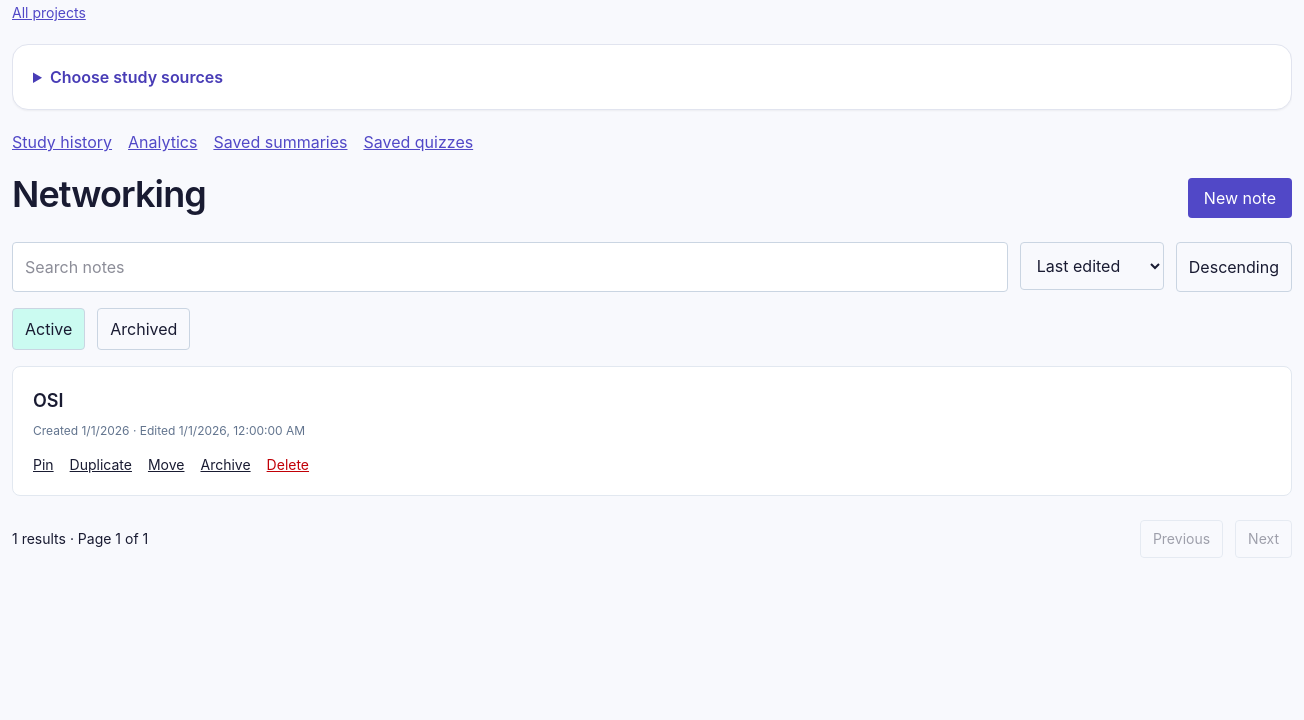
Test: updates note lists and project counts after pin, duplicate, archive, restore and move
This screenshot has width=1304, height=720.
Later steps or results of the test are not shown.
Expected: the heading "OSI" is shown, [33, 390, 64, 411]
Click the button "Pin" at (43, 465), box [33, 455, 54, 475]
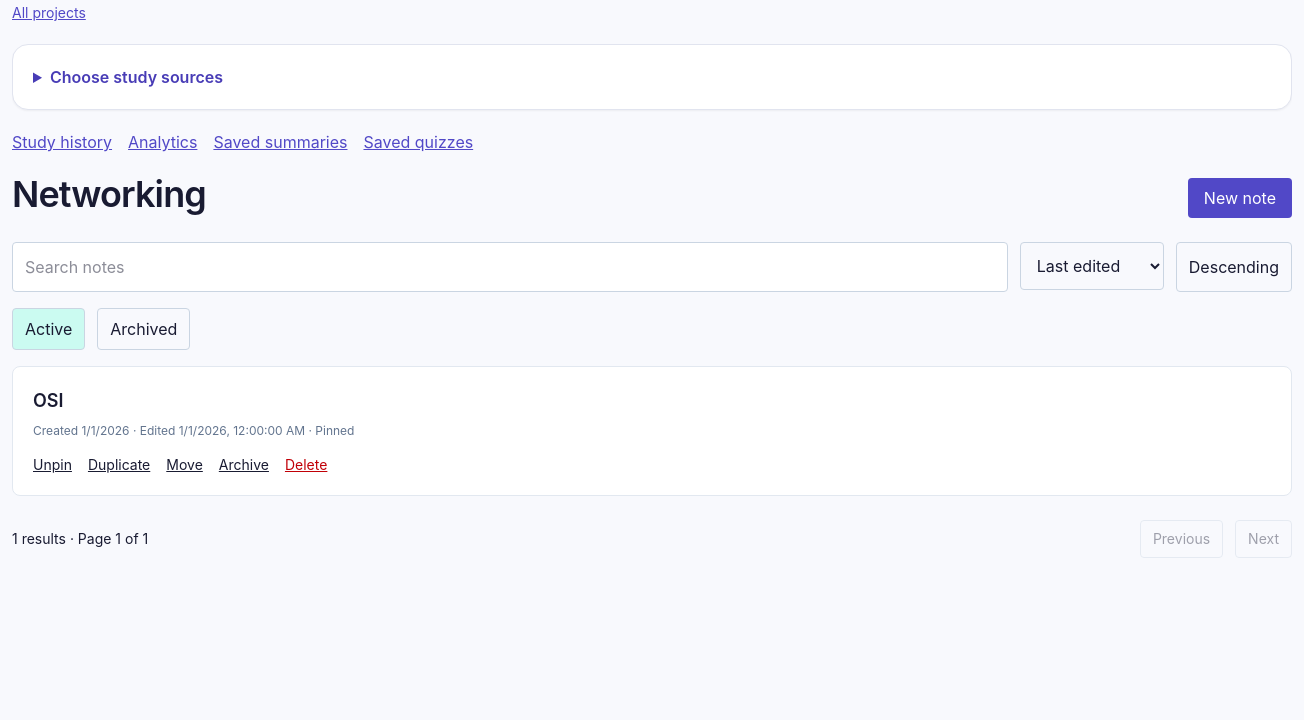
Expected: the button "Unpin" is shown, [33, 455, 72, 475]
Click the button "Duplicate" at (119, 465), box [88, 455, 150, 475]
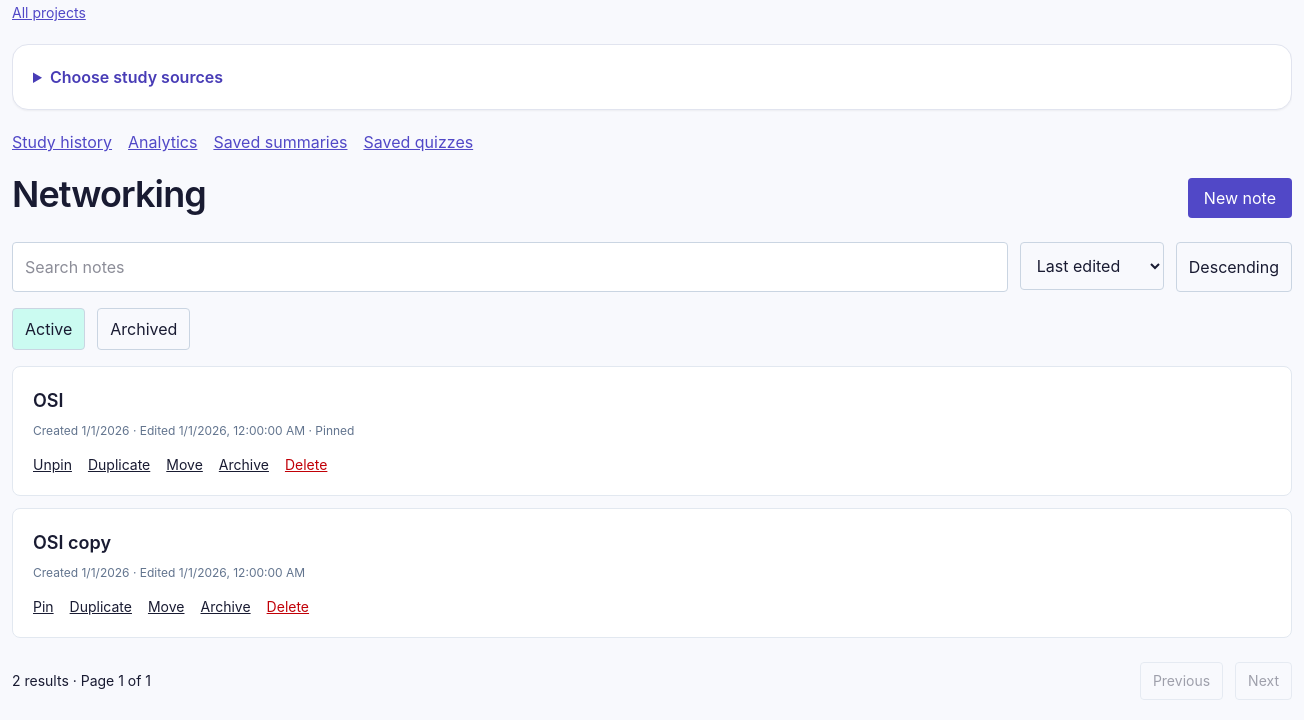
Click the button "Archive" below "OSI copy" at (226, 607), box [200, 597, 251, 617]
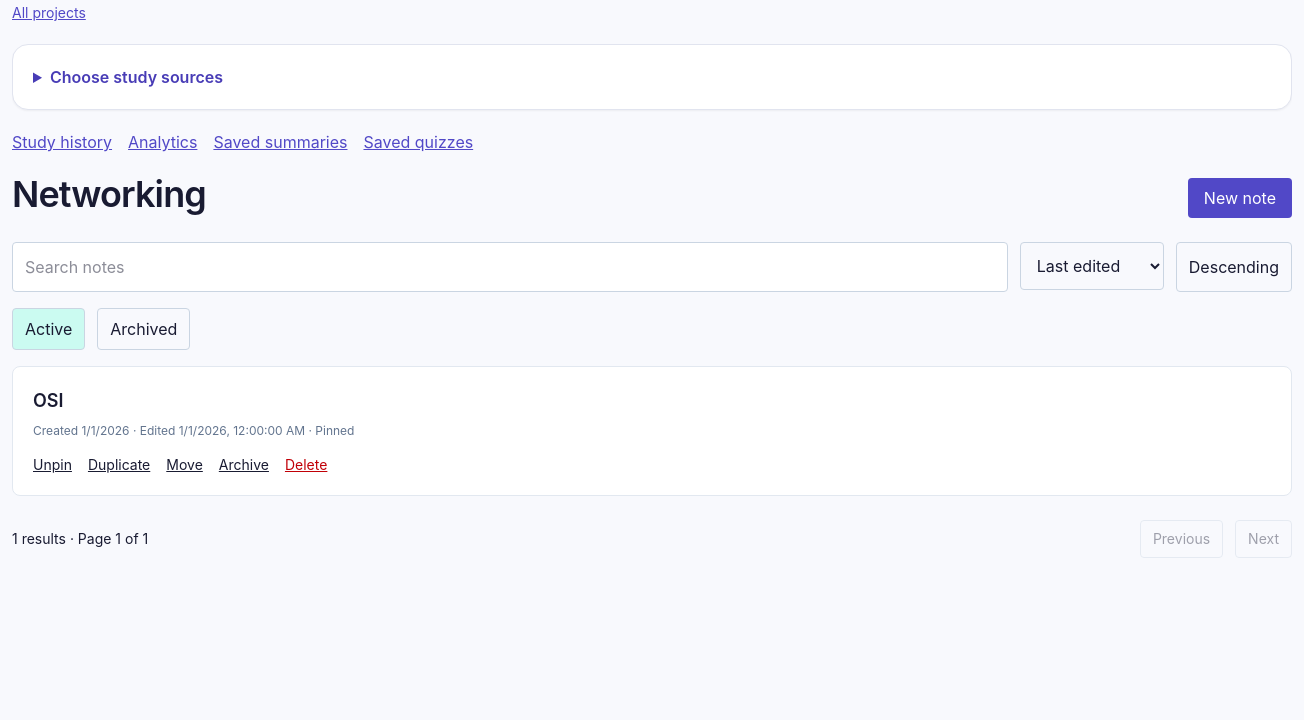
Expected: the link "OSI copy" is gone
Click the button "Archived" at (144, 329), box [97, 308, 190, 350]
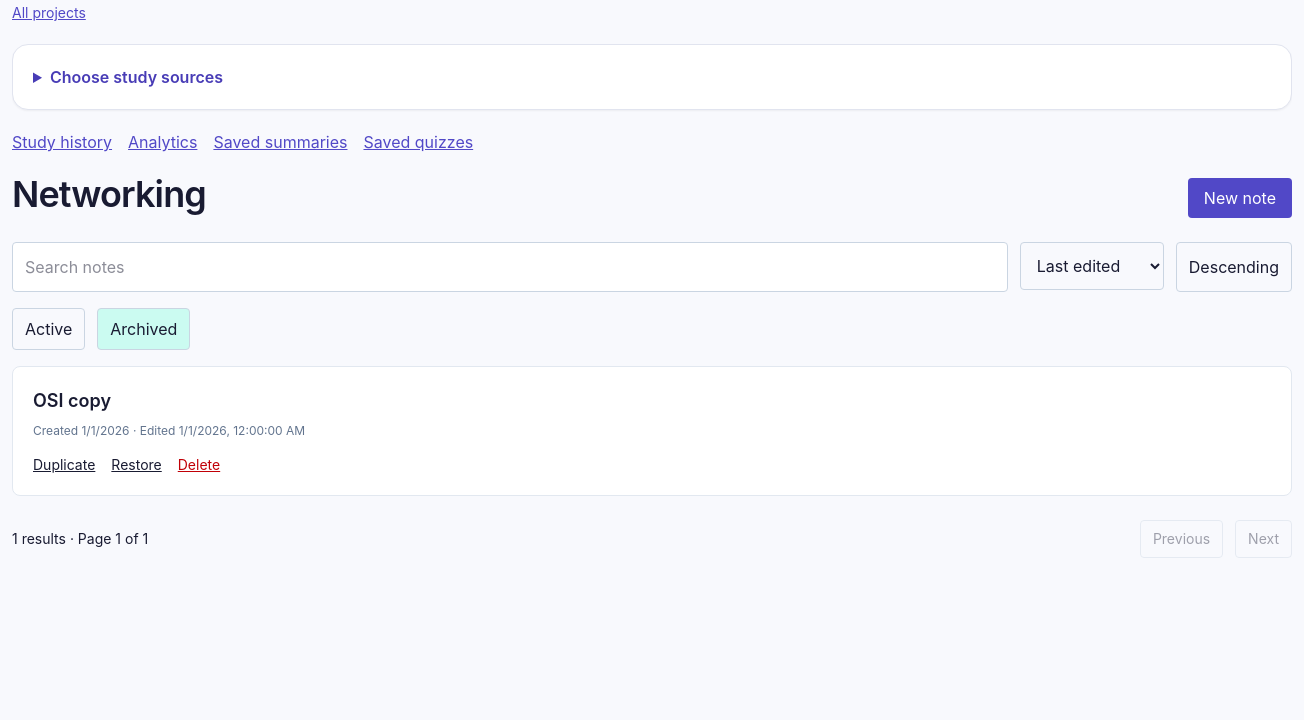
Expected: the heading "OSI copy" is shown, [33, 390, 111, 411]
Click the button "Restore" at (136, 465), box [111, 455, 162, 475]
Click the button "Active" at (49, 329), box [12, 308, 85, 350]
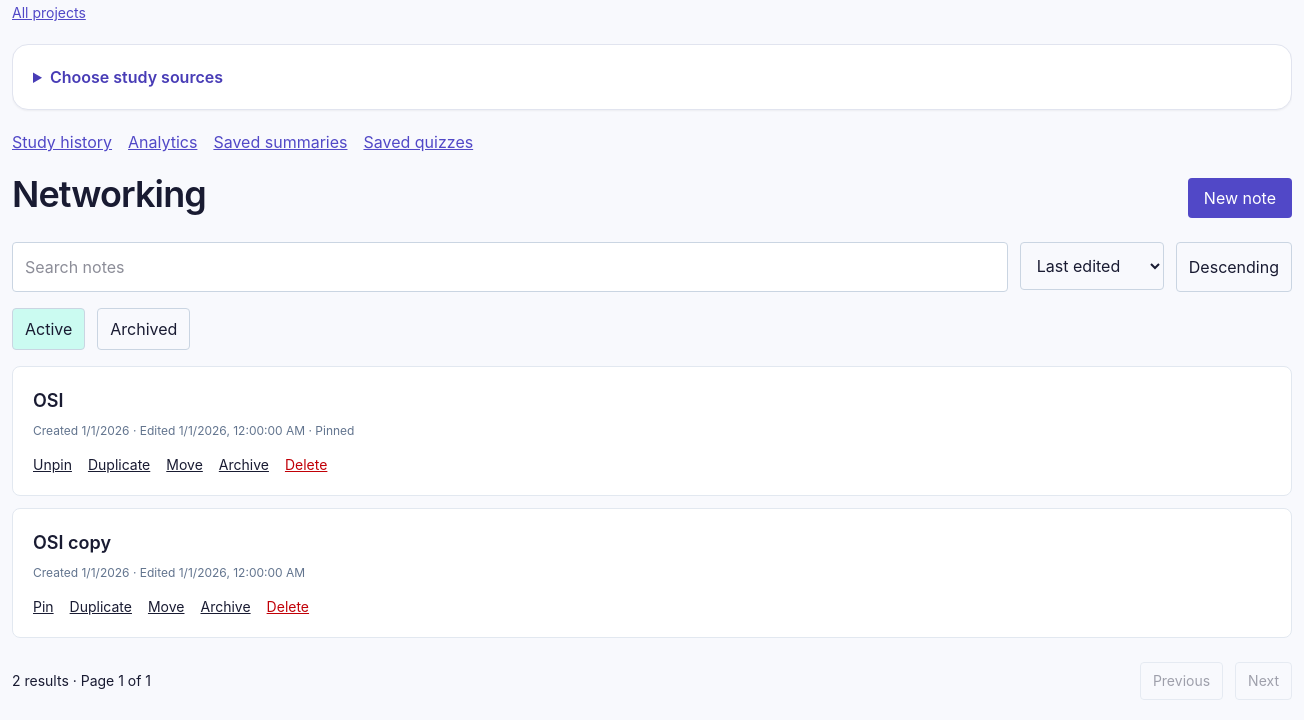
Expected: the heading "OSI copy" is shown, [33, 532, 111, 553]
